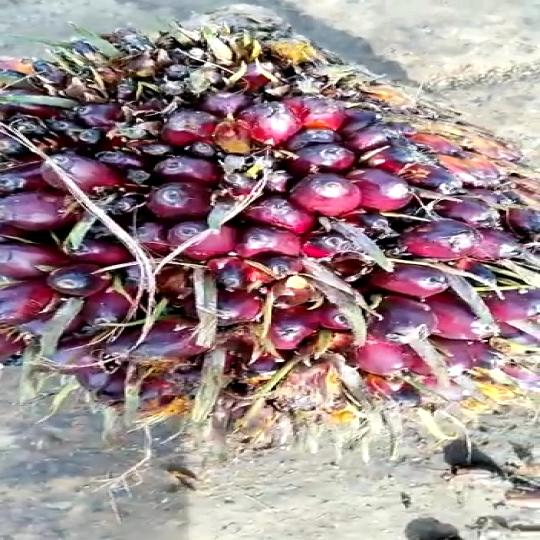masak: (0, 6, 540, 489)
